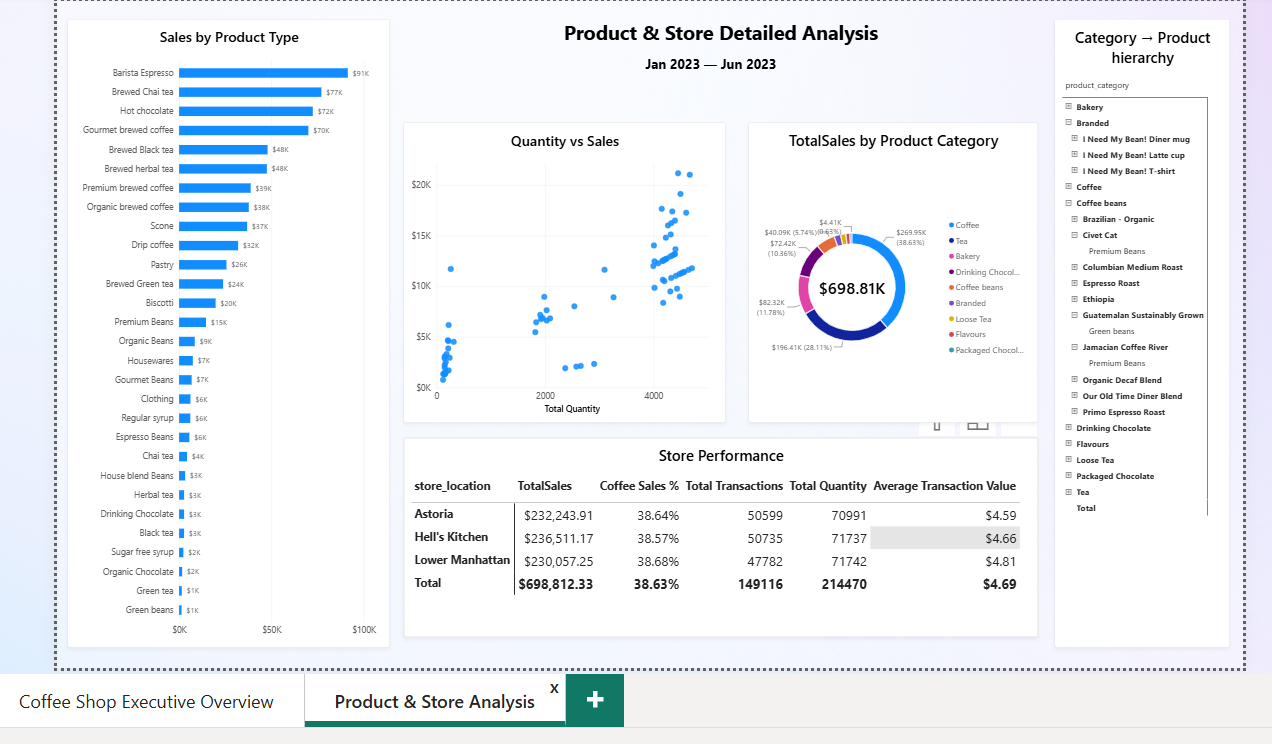

Layout of this report page (visuals, bound fields, positions):
{"tool":"powerbi","page":{"name":"Product & Store Analysis","canvas":[1920,1080],"ordinal":1},"visuals":[{"type":"clusteredBarChart","title":"Sales by Product Type","fields":{"Category":["CoffeShop.product_type"],"Y":["CoffeShop.TotalSales"]},"box":[17,29.1,522.2,1017.7],"z":0},{"type":"scatterChart","title":"Quantity vs Sales","fields":{"Category":["CoffeShop.product_detail"],"X":["CoffeShop.Total Quantity"],"Y":["CoffeShop.TotalSales"]},"box":[561.1,196.7,522,486],"z":1000},{"type":"pivotTable","title":"Store Performance","fields":{"Rows":["CoffeShop.store_location"],"Values":["CoffeShop.TotalSales","CoffeShop.Coffee Sales %","CoffeShop.Total Transactions","CoffeShop.Total Quantity","CoffeShop.Average Transaction Value"]},"box":[561.1,706.8,1027.4,323],"z":2000},{"type":"pivotTable","title":"Category → Product hierarchy","fields":{"Rows":["CoffeShop.product_category","CoffeShop.product_detail","CoffeShop.product_type"]},"box":[1615.2,29.1,284.2,1017.7],"z":3000},{"type":"donutChart","title":"TotalSales by Product Category","fields":{"Category":["CoffeShop.product_category"],"Y":["CoffeShop.TotalSales"]},"box":[1119.7,196.7,468.8,485.8],"z":3001},{"type":"textbox","box":[813.7,29.1,522.2,58.3],"z":3002},{"type":"textbox","box":[932.7,87.4,252.6,29.1],"z":3003}]}

Visuals, with their boxes on the page's 1920x1080 design canvas (x1, y1, x2, y2). These are canvas units, not pixel positions in the 1272x744 screenshot, which may show the page scaled, cropped or inside an application window:
"Sales by Product Type" clusteredBarChart: {"x1": 17, "y1": 29, "x2": 539, "y2": 1047}
"Quantity vs Sales" scatterChart: {"x1": 561, "y1": 197, "x2": 1083, "y2": 683}
"Store Performance" pivotTable: {"x1": 561, "y1": 707, "x2": 1588, "y2": 1030}
"Category → Product hierarchy" pivotTable: {"x1": 1615, "y1": 29, "x2": 1899, "y2": 1047}
"TotalSales by Product Category" donutChart: {"x1": 1120, "y1": 197, "x2": 1588, "y2": 682}
textbox: {"x1": 814, "y1": 29, "x2": 1336, "y2": 87}
textbox: {"x1": 933, "y1": 87, "x2": 1185, "y2": 116}
